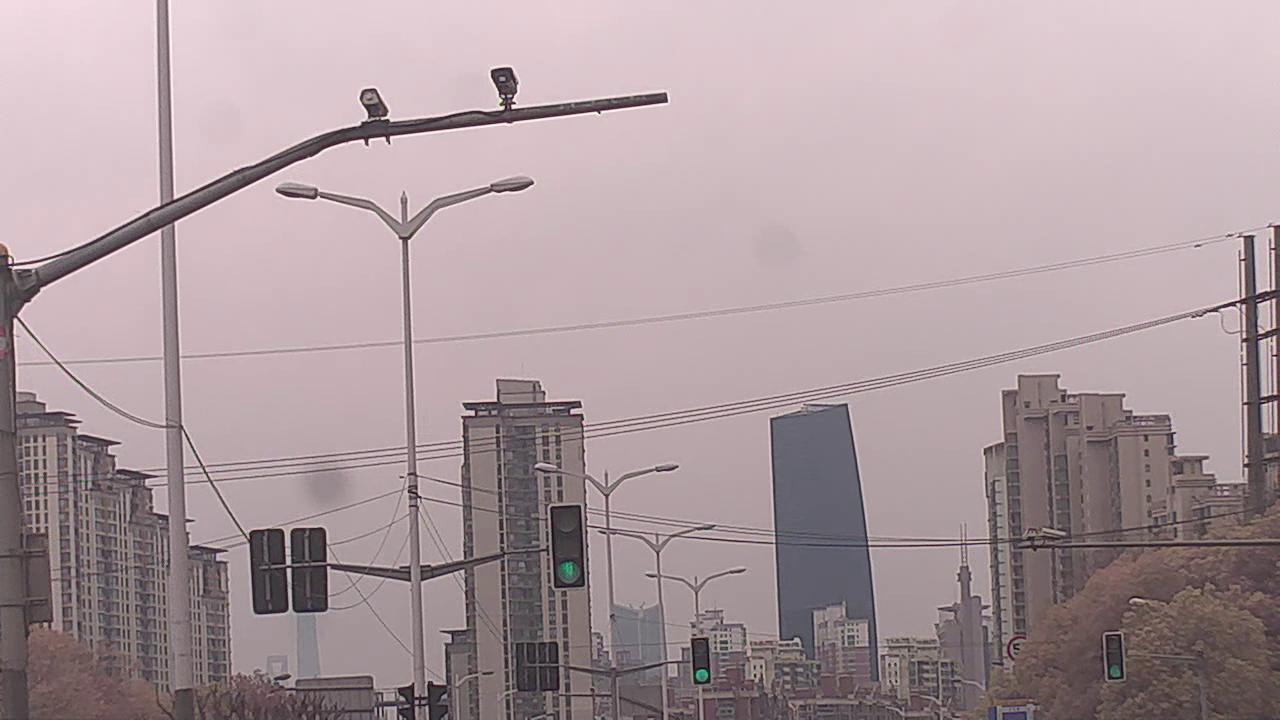traffic_light: (551, 503, 586, 586), (1103, 633, 1128, 683), (692, 638, 711, 685)
